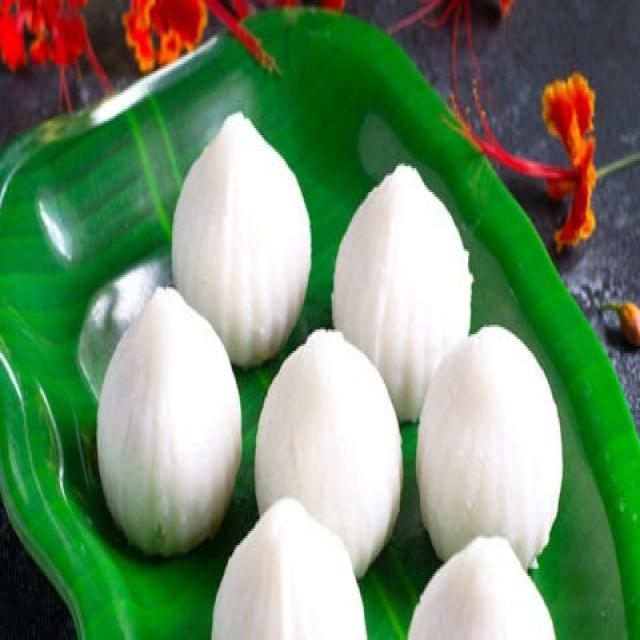poorna kolukattai: (81, 86, 582, 640)
